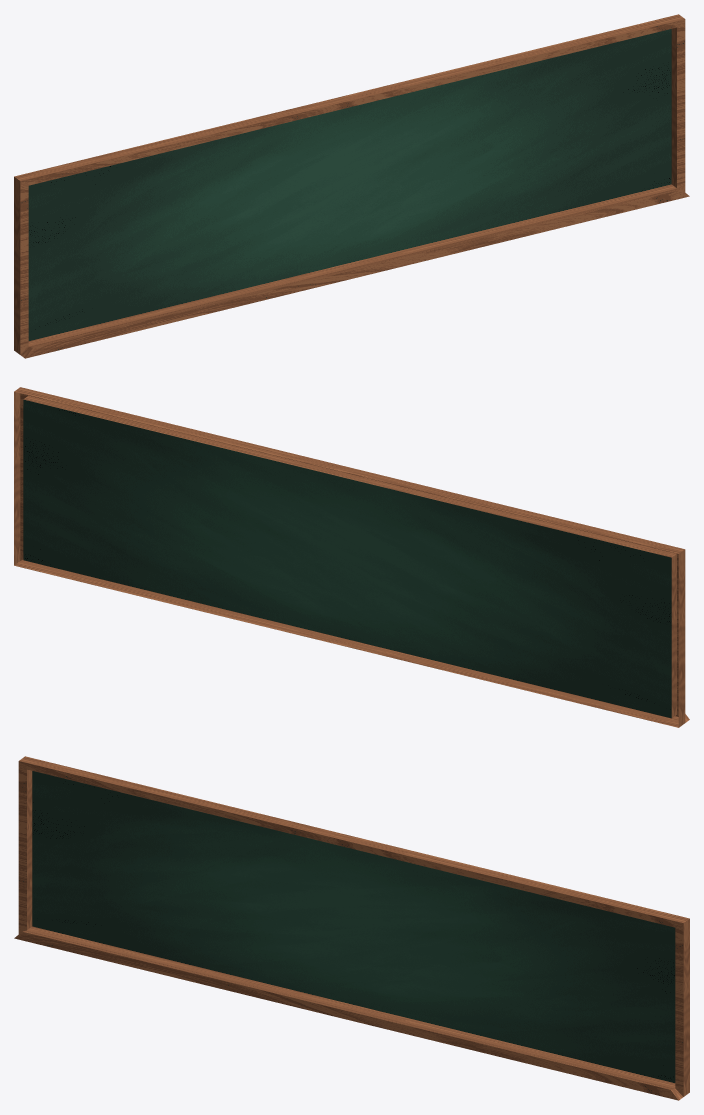
3 views of the same model, one above another, from view 1: azimuth 30°, elevation 25°; view 2: azimuth 150°, elevation 25°; view 3: azimuth 330°, elevation 25° (orthographic).
Parts seen in each view (by area): view 1: Lousa; view 2: Lousa; view 3: Lousa.
Part boxes in pixels (left/top/right/bottom): Lousa: left=14, top=14, right=689, bottom=358; Lousa: left=14, top=387, right=689, bottom=727; Lousa: left=14, top=756, right=689, bottom=1100.
Bounding box in the file's own units: 600 × 150 × 17.48.
2 materials, 2 textured.
